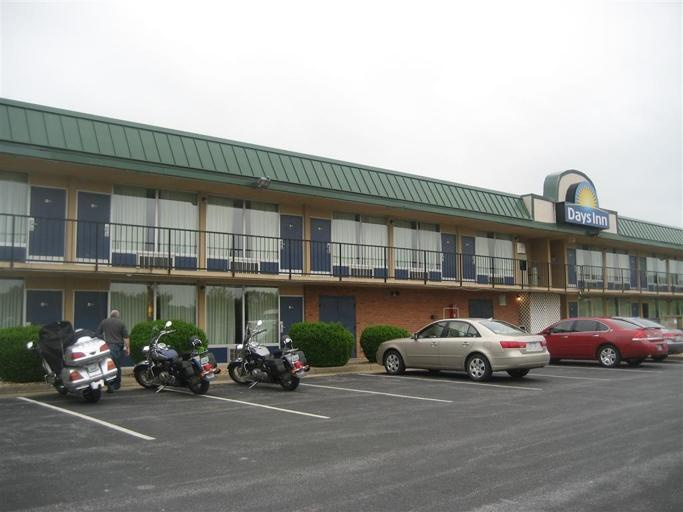non-vehicle: (26, 319, 118, 403), (133, 319, 221, 394), (227, 319, 309, 390)
